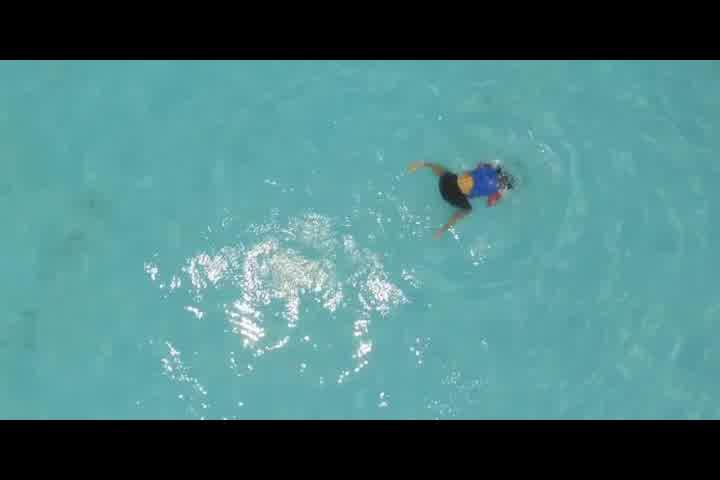swimmer: (400, 161, 519, 240)
